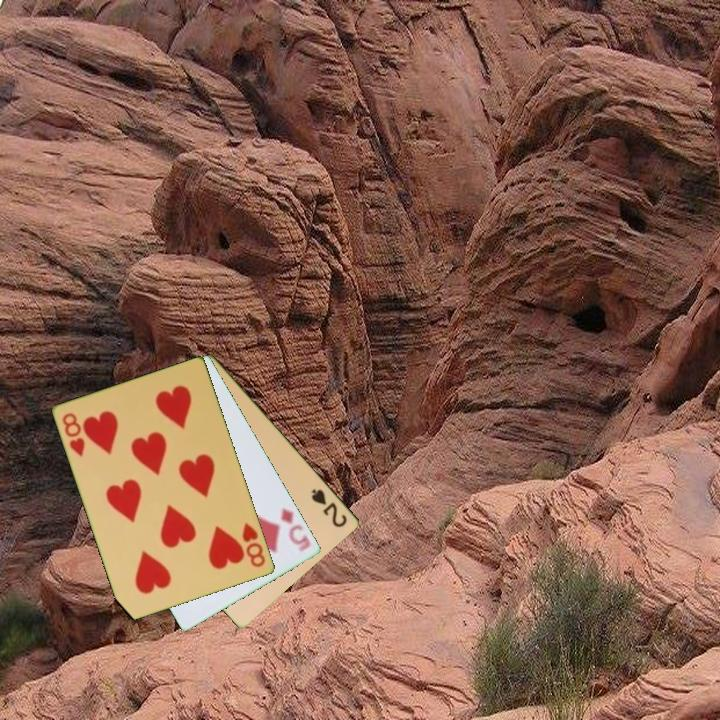2s: (308, 485, 351, 530)
5d: (278, 504, 314, 555)
8h: (239, 519, 268, 570), (59, 409, 88, 460)
